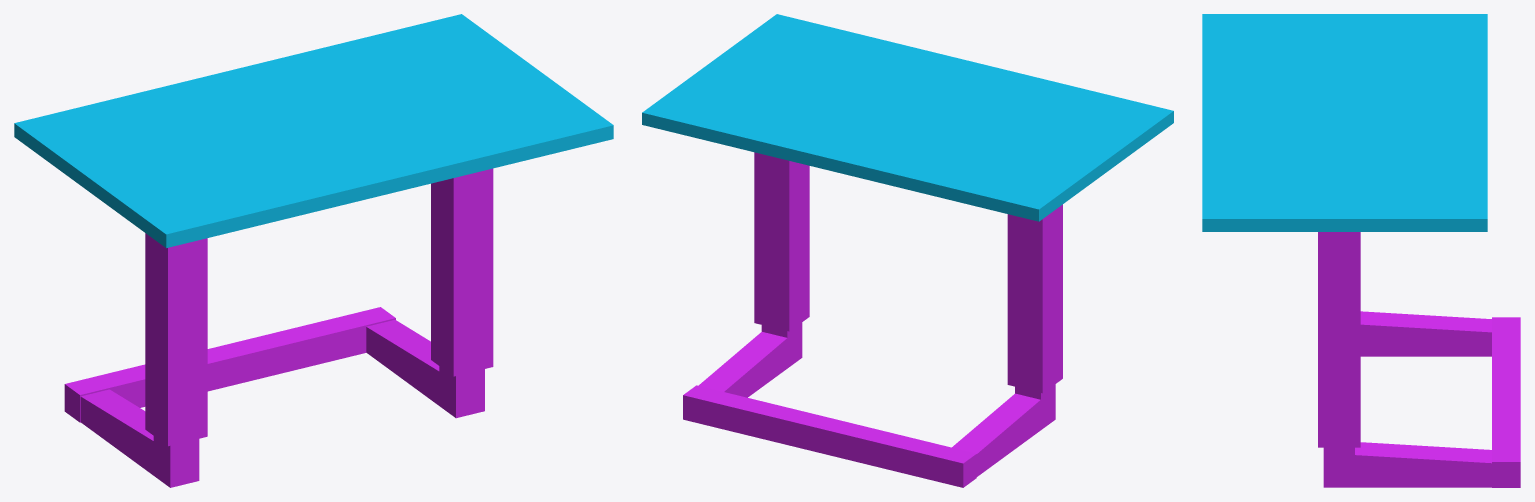
The model's file is BedTable.gltf.
3 renders of one model, left to right at view 1: azimuth 30°, elevation 25°; view 2: azimuth 150°, elevation 25°; view 3: azimuth 270°, elevation 25°, orthographic. The views are drawn at different scales.
Visible parts, largest first — view 1: Bed Table; view 2: Bed Table; view 3: Bed Table.
Part boxes in pixels (box(x1,y1,x2,y2)): Bed Table: box(14, 14, 613, 487); Bed Table: box(642, 14, 1173, 487); Bed Table: box(1202, 14, 1520, 487).
Size of the model in its own units: 2.98 by 2.02 by 1.96.
